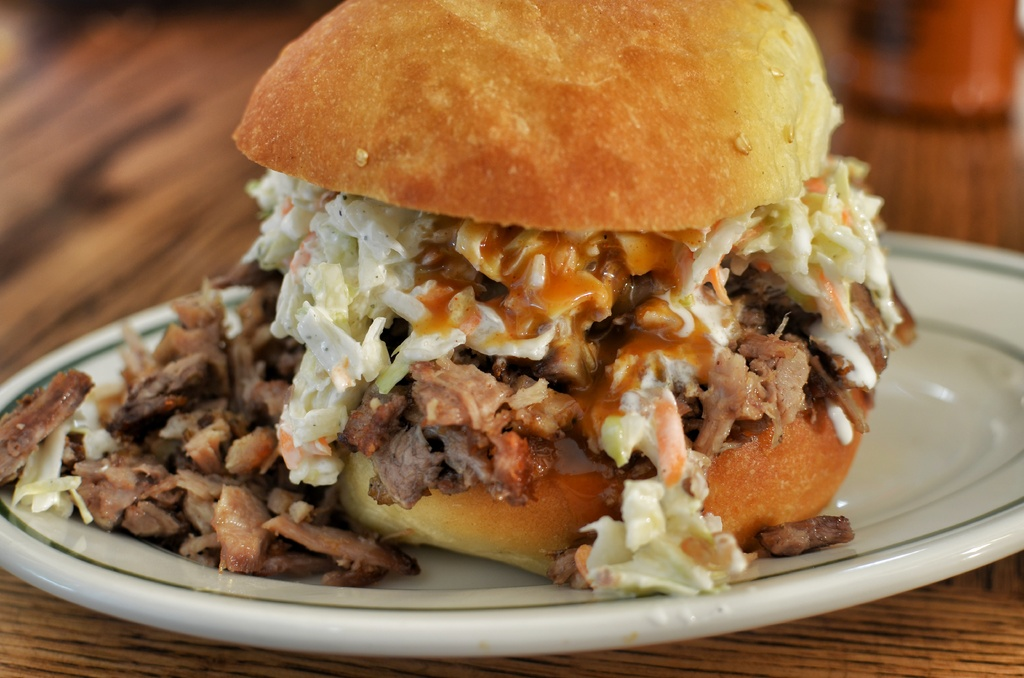Hamburger: (238, 0, 917, 606)
